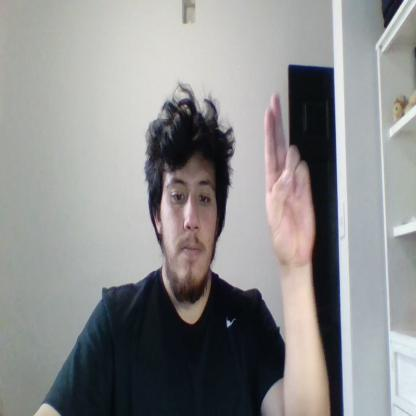U: (265, 94, 315, 265)
